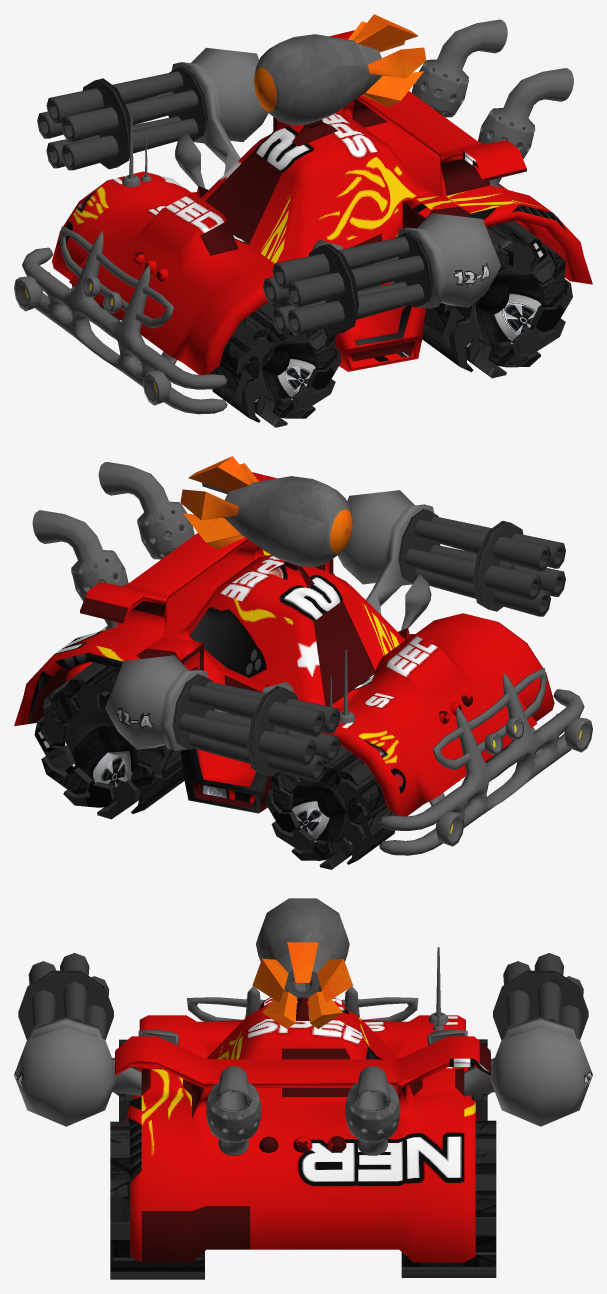
The model's file is warMobile.fbx.
The picture shows the model from 3 angles, top to bottom: view 1: azimuth 30°, elevation 25°; view 2: azimuth 150°, elevation 25°; view 3: azimuth 270°, elevation 25°; orthographic projection. The views are drawn at different scales.
Parts seen in each view (by area): view 1: body2, extra, RLWheel, rocket, leftGun, gunsHolder1, rightGun, FLWheel; view 2: body2, extra, RRWheel, rocket, rightGun, leftGun, gunsHolder1, FRWheel; view 3: body2, gunsHolder1, extra, rocket, rightGun, leftGun, RRWheel, RLWheel.
Boxes of the visible parts, <box> form: body2: <box>52,30,592,374</box>; extra: <box>14,19,573,414</box>; RLWheel: <box>422,220,572,378</box>; rocket: <box>253,14,426,125</box>; leftGun: <box>263,232,433,335</box>; gunsHolder1: <box>171,47,500,308</box>; rightGun: <box>37,66,207,170</box>; FLWheel: <box>208,300,341,427</box>; body2: <box>14,472,554,816</box>; extra: <box>32,462,592,855</box>; RRWheel: <box>34,662,184,819</box>; rocket: <box>180,456,352,567</box>; rightGun: <box>172,674,340,781</box>; leftGun: <box>398,509,565,616</box>; gunsHolder1: <box>105,490,434,750</box>; FRWheel: <box>265,745,397,869</box>; body2: <box>115,997,490,1262</box>; gunsHolder1: <box>14,1017,592,1126</box>; extra: <box>114,947,491,1155</box>; rocket: <box>252,898,353,1028</box>; rightGun: <box>493,953,588,1039</box>; leftGun: <box>18,953,113,1039</box>; RRWheel: <box>401,1120,496,1277</box>; RLWheel: <box>110,1121,204,1279</box>.
Size of the model in its own units: 0.4436 by 0.2801 by 0.471.
